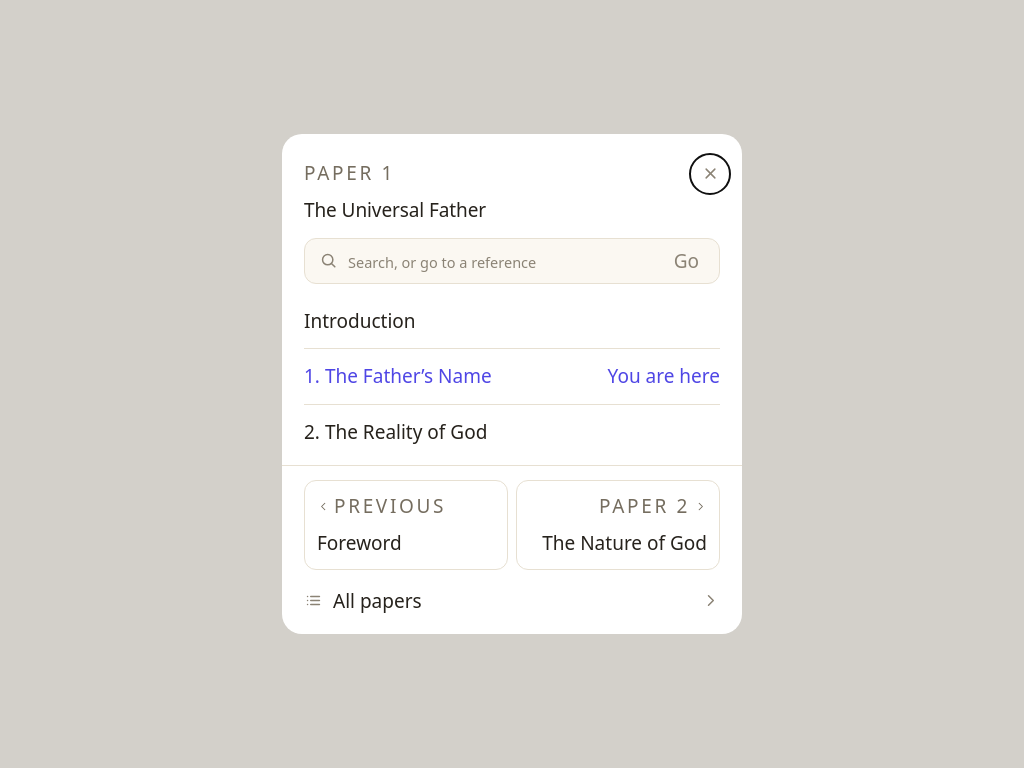
Test case: Navigator › says that the papers go from 1 to 196 for a number that is too high
This screenshot has width=1024, height=768.
In the field labelled "Search, or go to a reference": (499, 261) [348,246,650,276], type "197"
Then press Enter
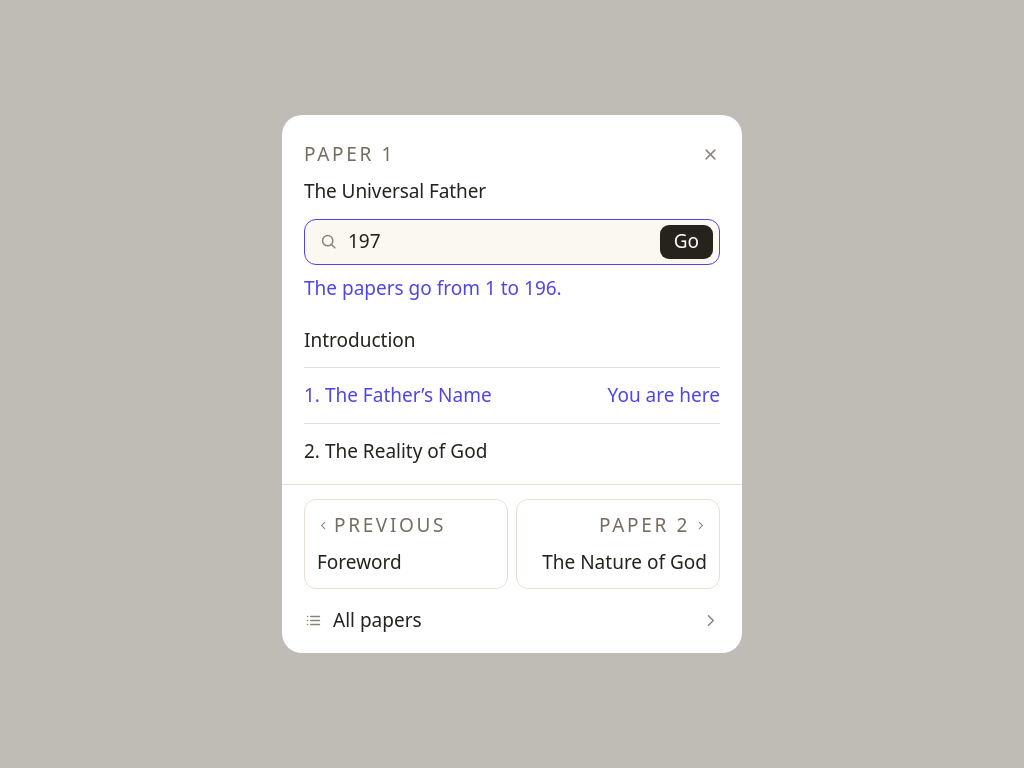
Result: the message reads "The papers go from 1 to 196." at [304,274,562,300]
